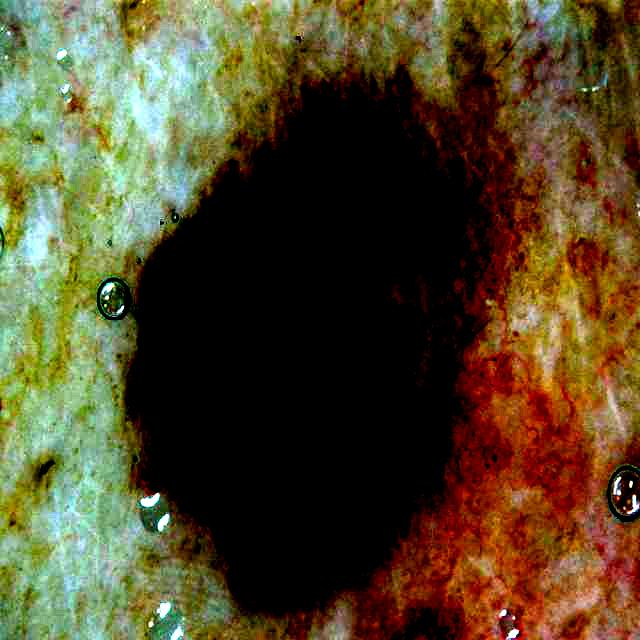MEL: (137, 84, 537, 598)
